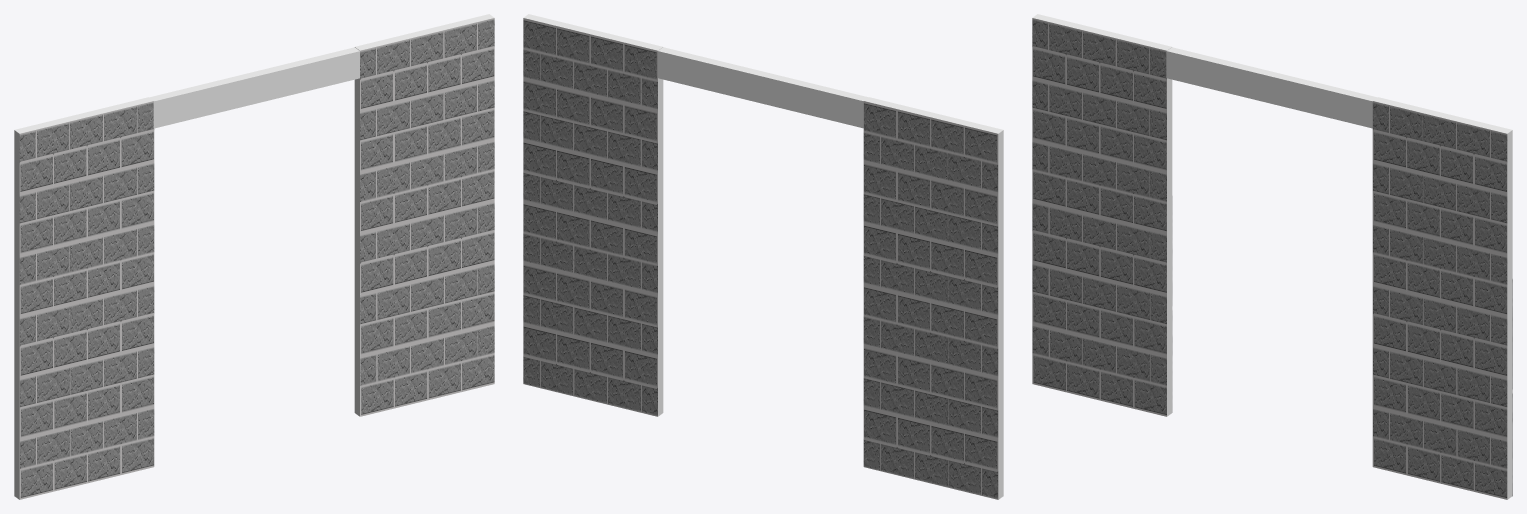
Rendered from winwalls.obj.
The picture shows the model from 3 angles, left to right: view 1: azimuth 30°, elevation 25°; view 2: azimuth 150°, elevation 25°; view 3: azimuth 330°, elevation 25°; orthographic projection.
Parts seen in each view (by area): view 1: Cube_Cube.003, Cube_Cube.001; view 2: Cube_Cube.003, Cube_Cube.001; view 3: Cube_Cube.003, Cube_Cube.001.
Part boxes in pixels (<box>): Cube_Cube.003: <box>14,14,494,499</box>; Cube_Cube.001: <box>149,47,359,128</box>; Cube_Cube.003: <box>523,14,1003,499</box>; Cube_Cube.001: <box>658,47,868,128</box>; Cube_Cube.003: <box>1032,14,1512,499</box>; Cube_Cube.001: <box>1166,47,1377,128</box>.
Bounding box in the file's own units: 20.07 × 14.78 × 0.3931.
